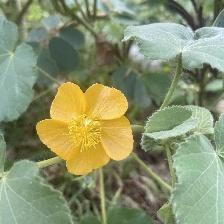indian mallow: (35, 82, 136, 177)
